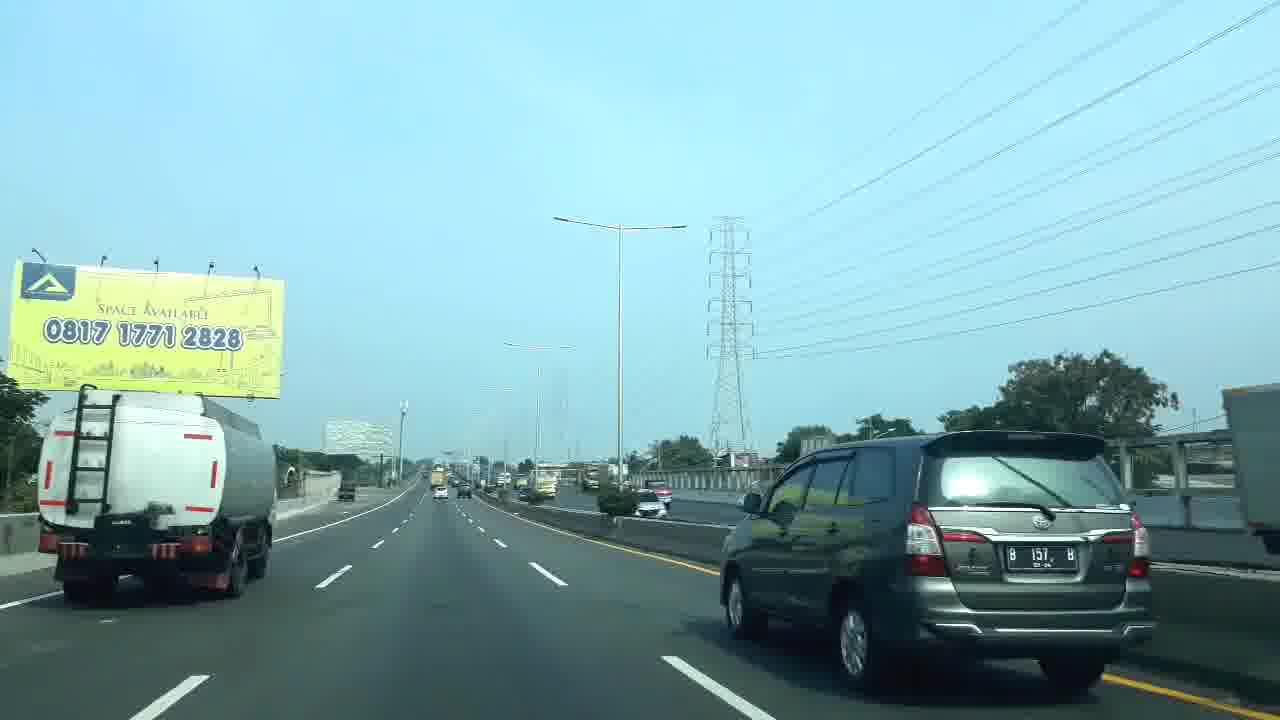plate_positive: (1003, 544, 1079, 573)
